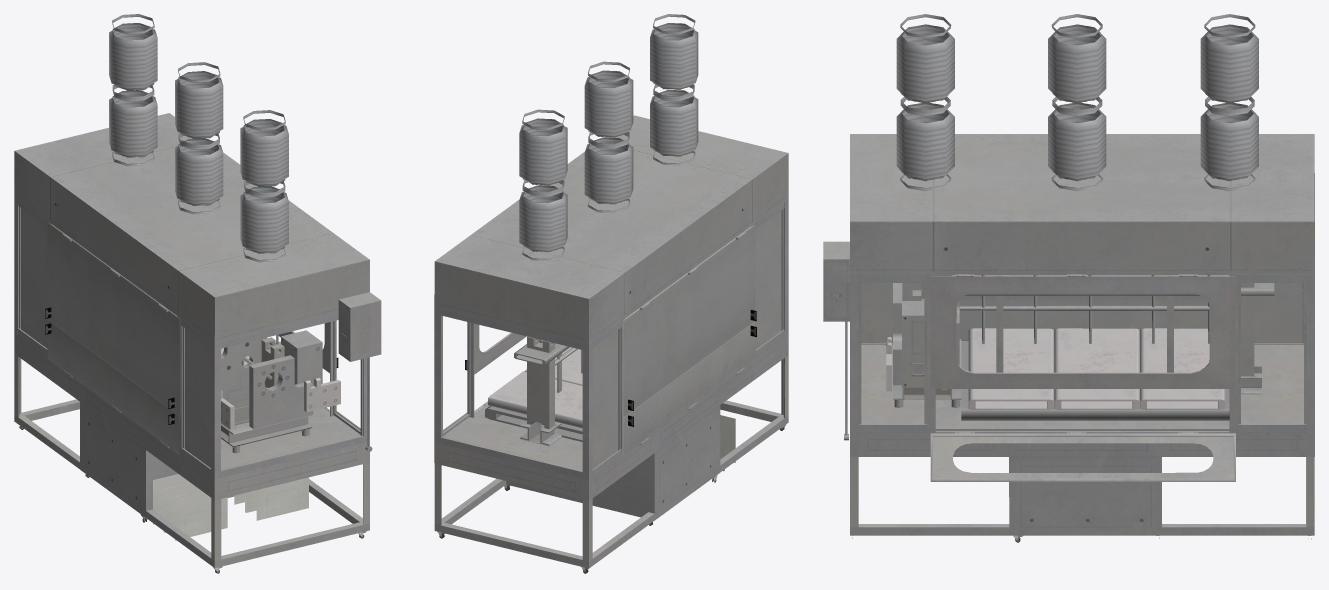
Rendered from sm23_008_labobox01a.fbx.
3 views of the same model, side by side, from view 1: azimuth 30°, elevation 25°; view 2: azimuth 150°, elevation 25°; view 3: azimuth 270°, elevation 25° (orthographic). The views are drawn at different scales.
Parts seen in each view (by area): view 1: LOD_1_Group_0_Sub_1__sm23_008_LaboBox01A_A_Mat__Env_Default, LOD_1_Group_1_Sub_1__sm23_008_LaboBox01A_B_Mat__Env_Default; view 2: LOD_1_Group_0_Sub_1__sm23_008_LaboBox01A_A_Mat__Env_Default, LOD_1_Group_1_Sub_1__sm23_008_LaboBox01A_B_Mat__Env_Default; view 3: LOD_1_Group_0_Sub_1__sm23_008_LaboBox01A_A_Mat__Env_Default, LOD_1_Group_1_Sub_1__sm23_008_LaboBox01A_B_Mat__Env_Default.
Part boxes in pixels (x1,y1,x2,y2): LOD_1_Group_0_Sub_1__sm23_008_LaboBox01A_A_Mat__Env_Default: (14,113,372,573); LOD_1_Group_1_Sub_1__sm23_008_LaboBox01A_B_Mat__Env_Default: (14,14,381,572); LOD_1_Group_0_Sub_1__sm23_008_LaboBox01A_A_Mat__Env_Default: (434,115,788,573); LOD_1_Group_1_Sub_1__sm23_008_LaboBox01A_B_Mat__Env_Default: (434,14,788,572); LOD_1_Group_0_Sub_1__sm23_008_LaboBox01A_A_Mat__Env_Default: (844,134,1314,542); LOD_1_Group_1_Sub_1__sm23_008_LaboBox01A_B_Mat__Env_Default: (823,14,1314,541).
Bounding box in the file's own units: 1.97 × 3.66 × 3.43.
